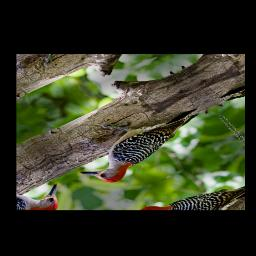Woodpecker: (49, 84, 224, 196)
